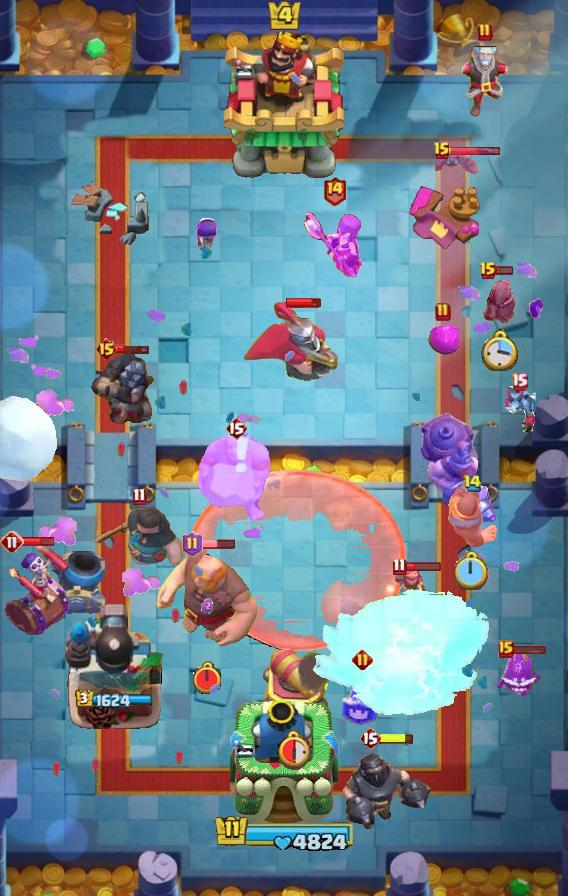archer-queen: (196, 431, 276, 525)
balloon: (153, 549, 261, 649)
barbarian-barrel: (428, 153, 480, 177)
battle-ram: (474, 275, 526, 327)
cannon: (394, 562, 432, 606)
clock: (210, 813, 358, 855)
electro-spirit: (201, 598, 213, 614)
elixir: (481, 329, 519, 371), (277, 728, 315, 770), (455, 551, 489, 590), (191, 660, 223, 695)
emote: (449, 147, 501, 158), (379, 732, 415, 745), (286, 297, 322, 309), (115, 343, 151, 355), (200, 538, 236, 550), (511, 643, 547, 655), (406, 560, 443, 571), (20, 537, 55, 548), (494, 264, 514, 275)
firecracker: (446, 487, 498, 547)
goblin: (193, 216, 218, 252)
inferno-dragon: (89, 347, 157, 435)
king-tower: (224, 29, 344, 181), (230, 698, 338, 826)
mega-knight: (310, 586, 494, 722)
miner: (427, 325, 459, 355)
mortar: (442, 40, 528, 118)
musketeer: (47, 550, 107, 614)
phoenix-egg: (185, 469, 408, 653)
princess: (339, 666, 385, 726)
rascal-boy: (303, 209, 365, 281)
royal-delivery: (497, 386, 541, 432)
royal-guardian: (342, 739, 434, 829)
royal-hog: (91, 504, 187, 570)
royal-recruit: (260, 650, 332, 724)
selected: (75, 689, 153, 709)
skeleton-king-bar: (0, 539, 70, 639)
spear-goblin: (496, 650, 544, 702)
text: (321, 175, 346, 206), (0, 530, 24, 554), (95, 337, 118, 361), (181, 531, 202, 557), (225, 416, 247, 440), (359, 726, 381, 750), (351, 649, 373, 671), (462, 475, 482, 494), (433, 141, 451, 161), (479, 261, 497, 281), (511, 372, 529, 391), (477, 22, 493, 42), (435, 302, 451, 322), (498, 640, 514, 658), (392, 556, 407, 575), (133, 486, 147, 505)
tower-bar: (64, 601, 164, 731)
wall-breaker: (0, 394, 58, 481)
wall-breaker-evolution: (240, 301, 338, 383)
wizard: (417, 411, 499, 525)
